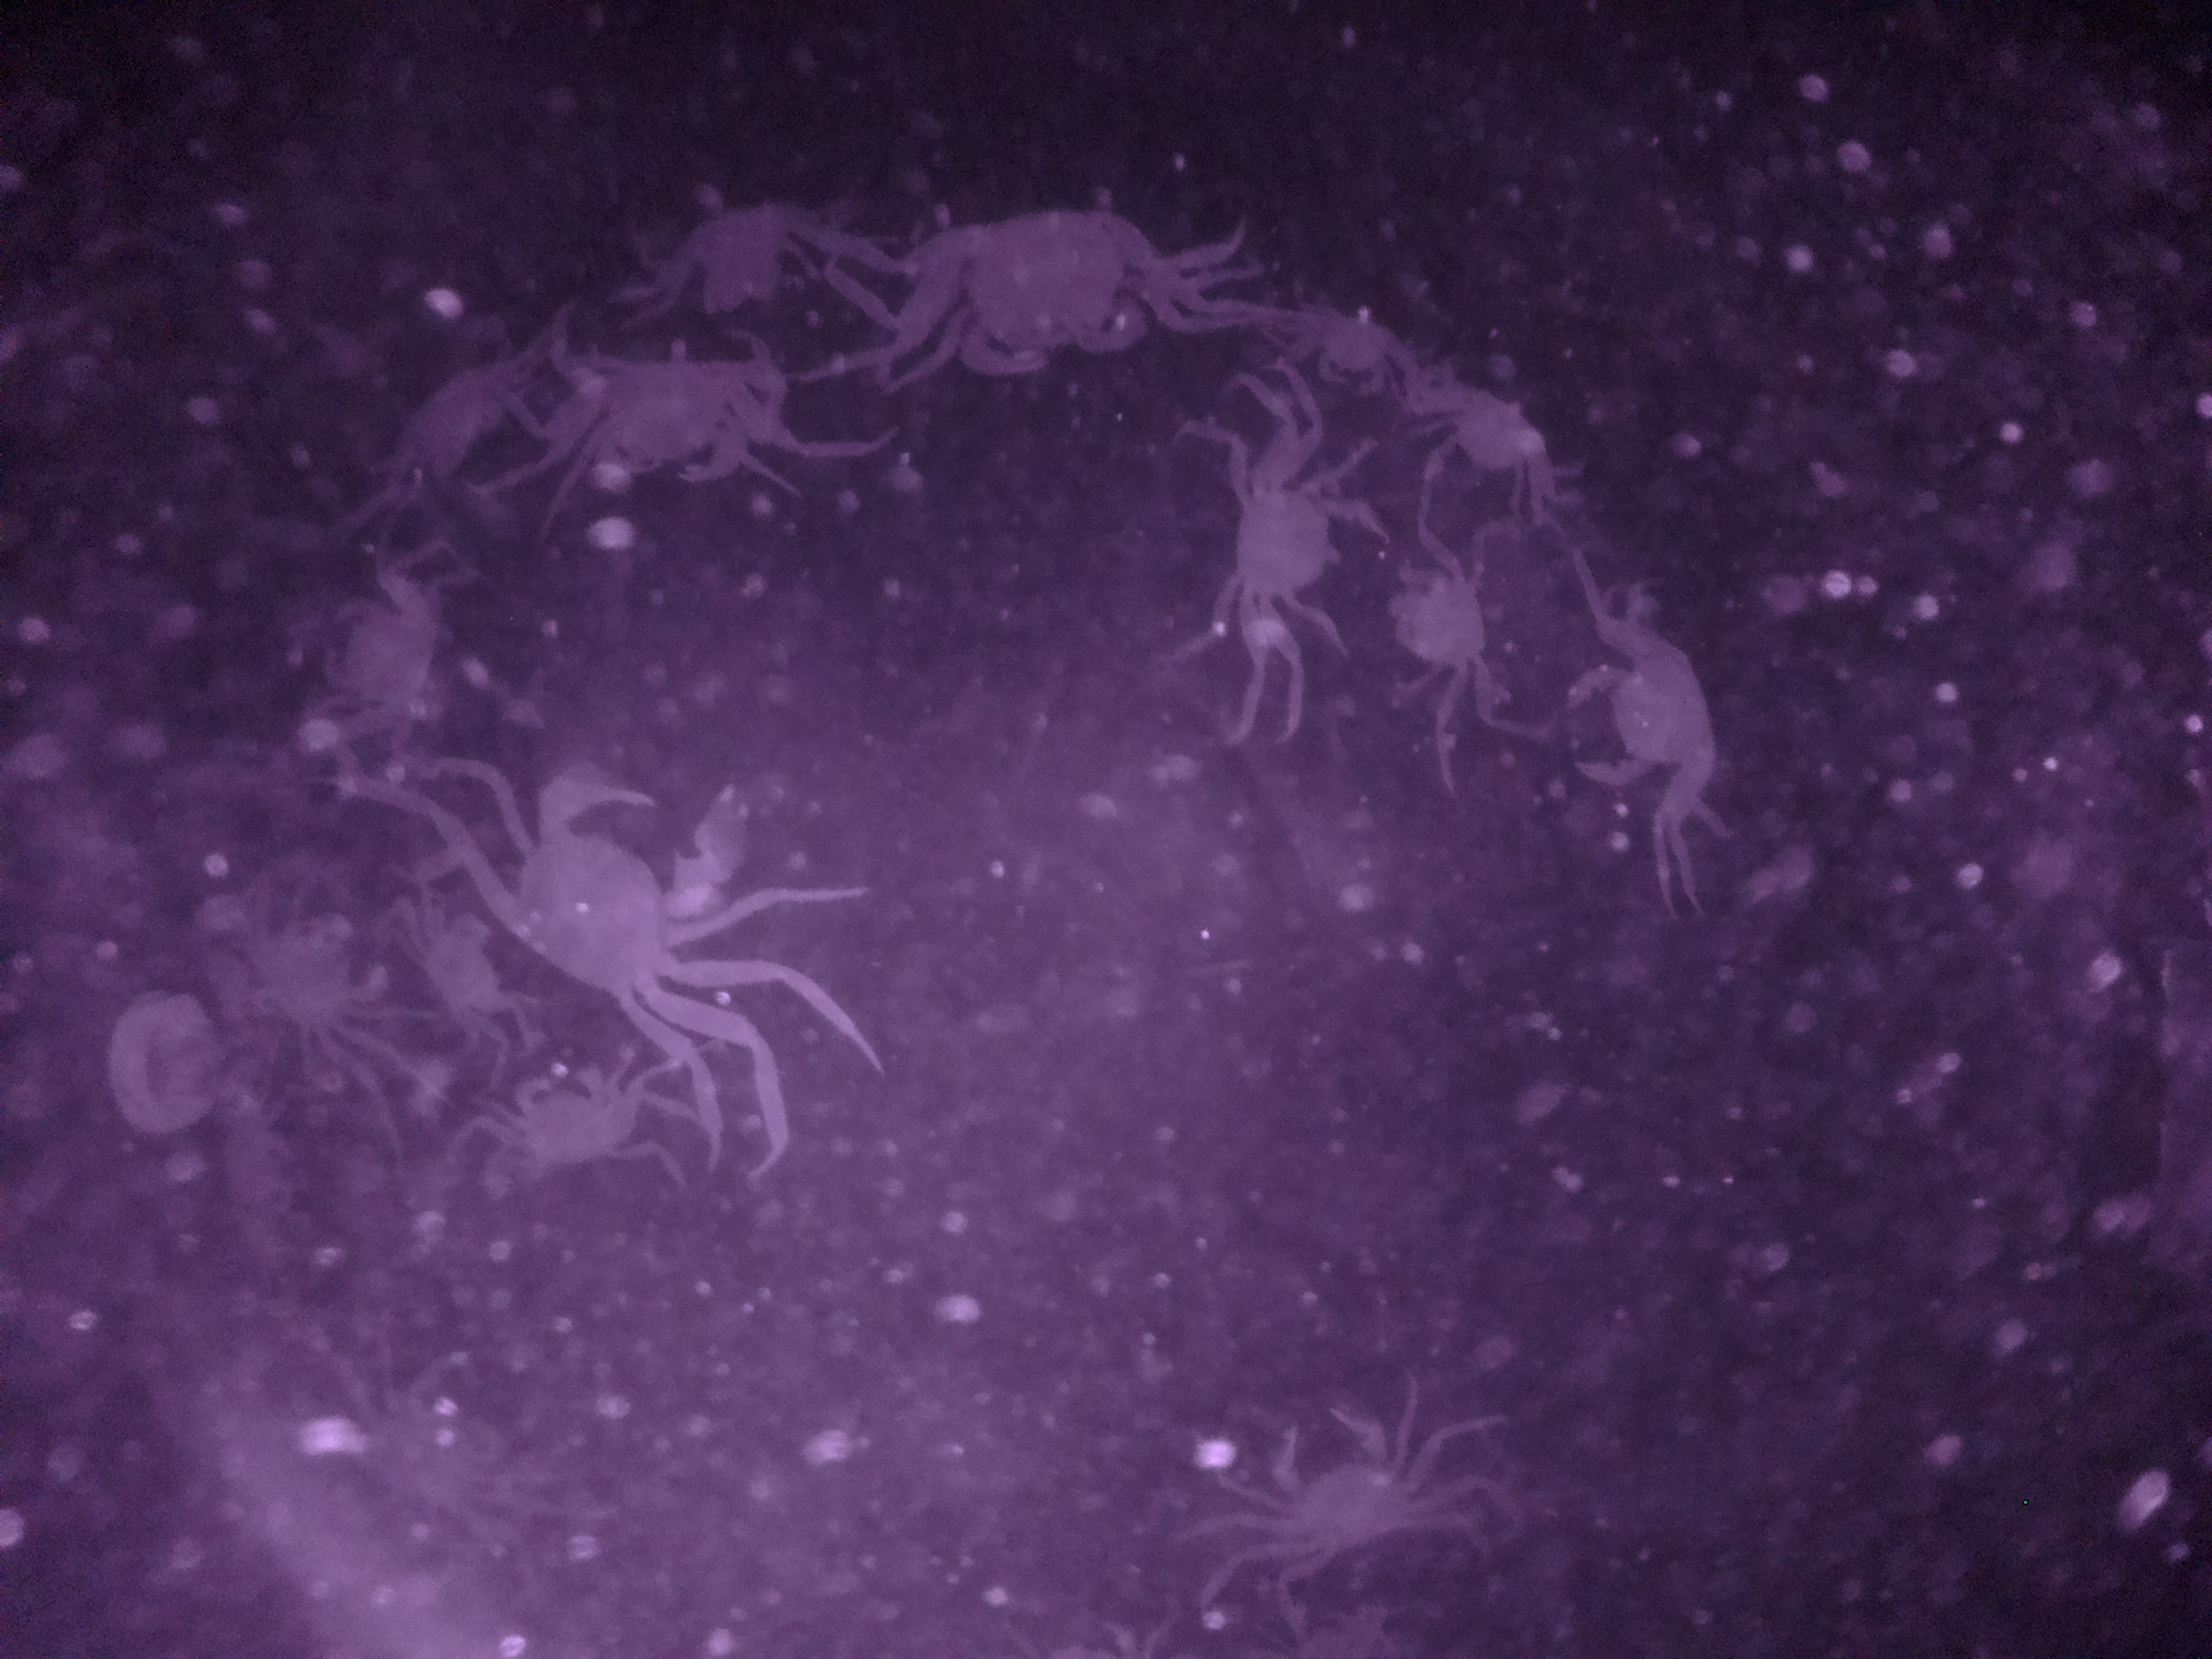Crab: (479, 751, 779, 1053), (894, 202, 1197, 394), (1561, 613, 1747, 829), (1231, 1389, 1449, 1574), (556, 331, 775, 514), (1214, 455, 1385, 645), (1402, 361, 1562, 511), (1383, 542, 1508, 694), (495, 1060, 650, 1182)
